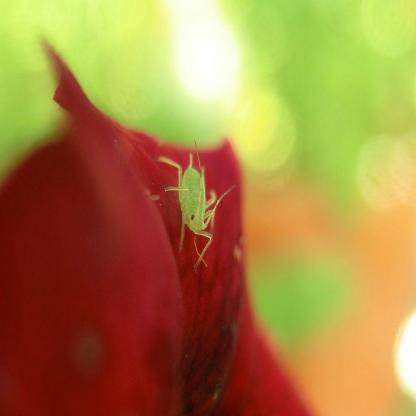aphid: (161, 138, 228, 278)
